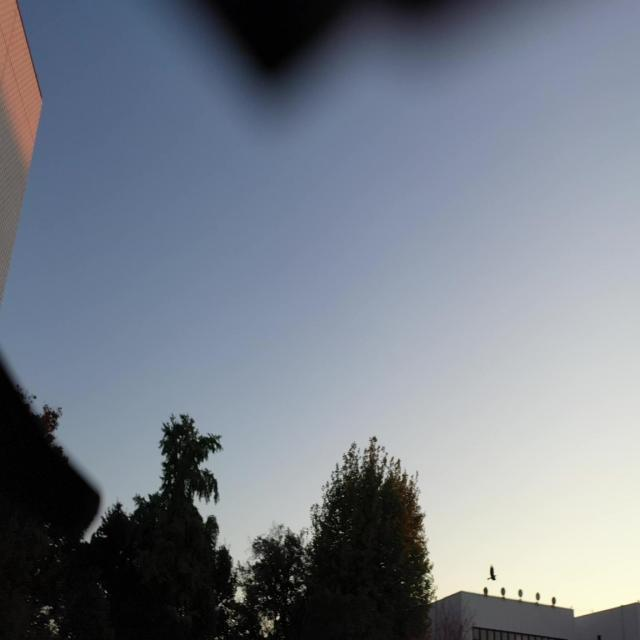Birds: (486, 555, 496, 575)
